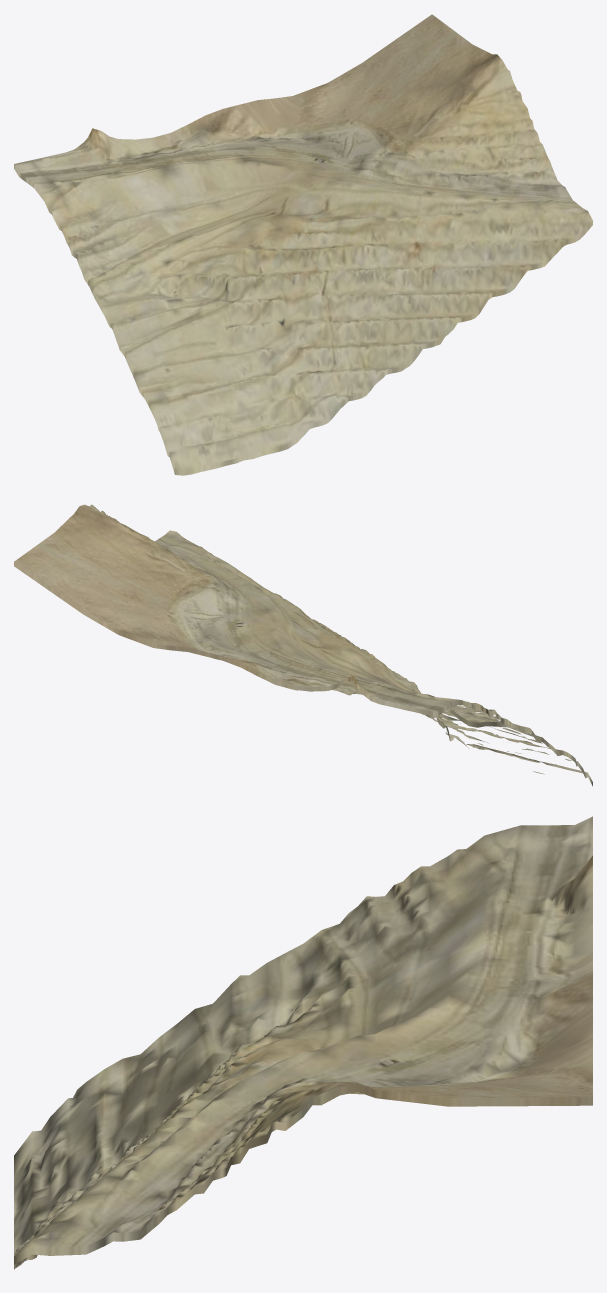
The picture shows the model from 3 angles, top to bottom: view 1: azimuth 30°, elevation 25°; view 2: azimuth 150°, elevation 25°; view 3: azimuth 270°, elevation 25°; orthographic projection. The views are drawn at different scales.
Visible parts, largest first — view 1: l1-2-3; view 2: l1-2-3; view 3: l1-2-3.
Boxes of the visible parts, x1,y1,x2,y2 form: l1-2-3: [14, 14, 592, 475]; l1-2-3: [14, 504, 592, 786]; l1-2-3: [14, 816, 592, 1269].
Size of the model in its own units: 768 by 443 by 512.
1 material, 1 textured.
